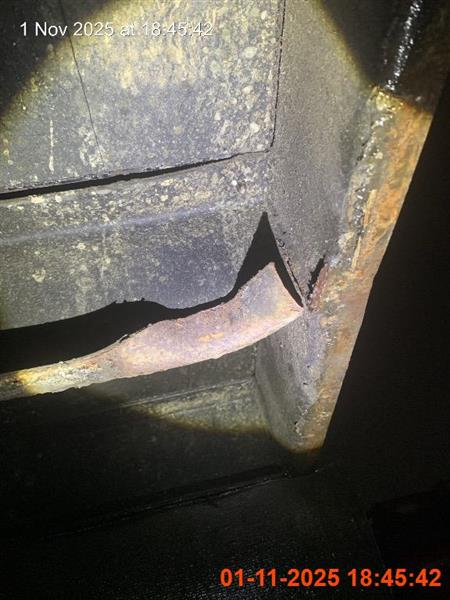hole: (2, 1, 449, 495)
